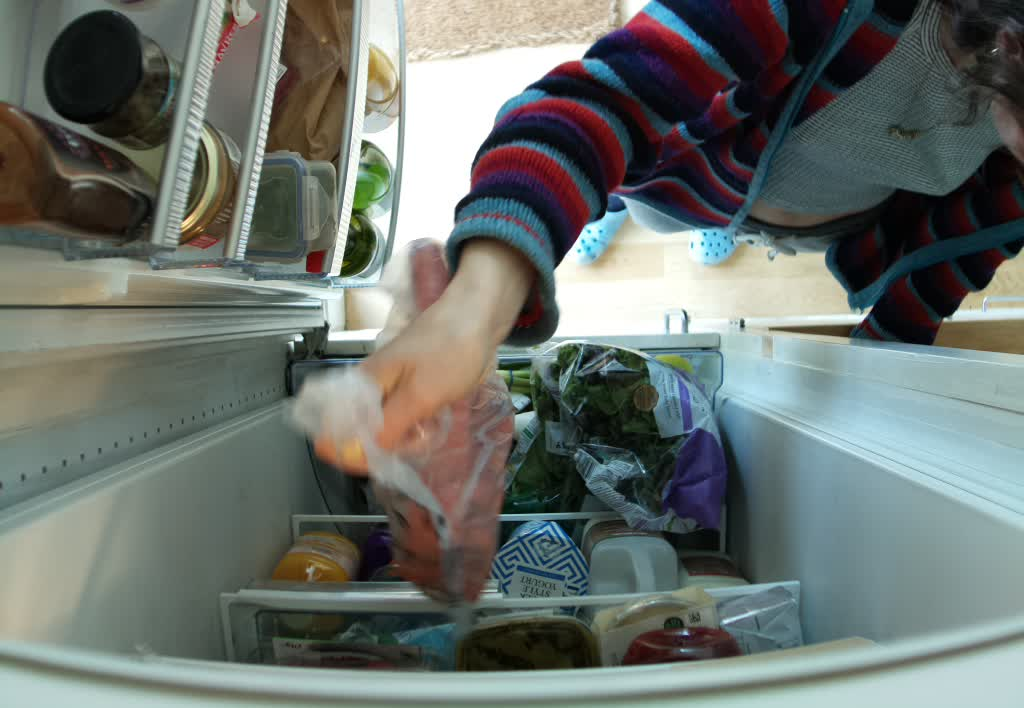carrot: (366, 240, 508, 605)
